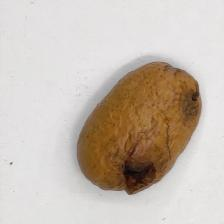NG: (110, 150, 159, 196), (181, 74, 202, 129)
